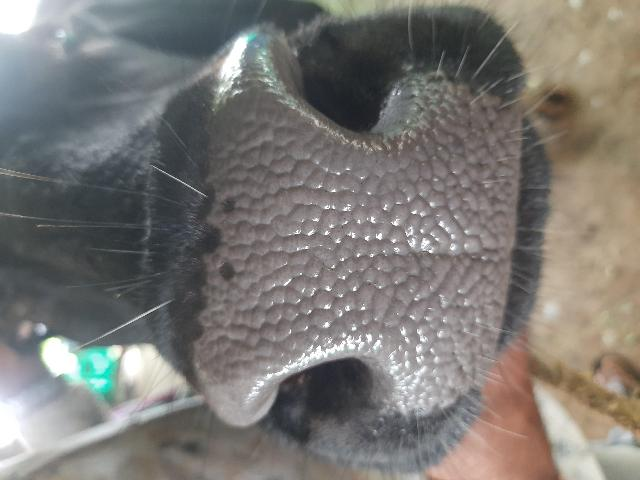Muzzle: (208, 72, 512, 406)
